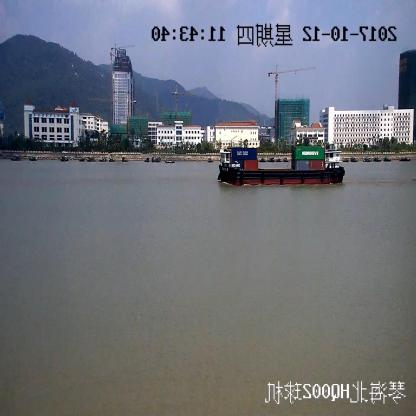Container Ship: (219, 144, 344, 187)
